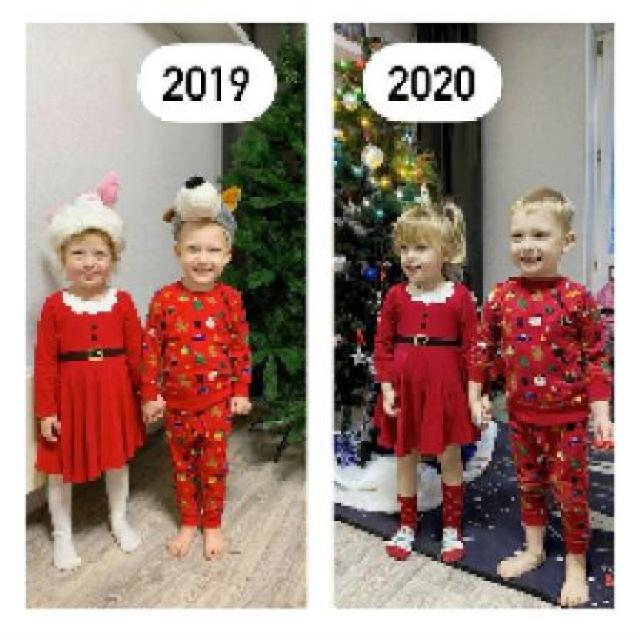child: (466, 187, 612, 607), (32, 172, 165, 572), (138, 174, 252, 563), (370, 197, 490, 563)
